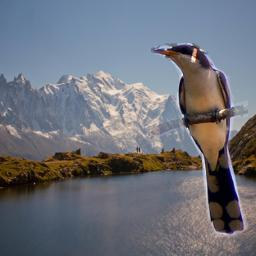Cuckoo: (151, 43, 248, 238)
